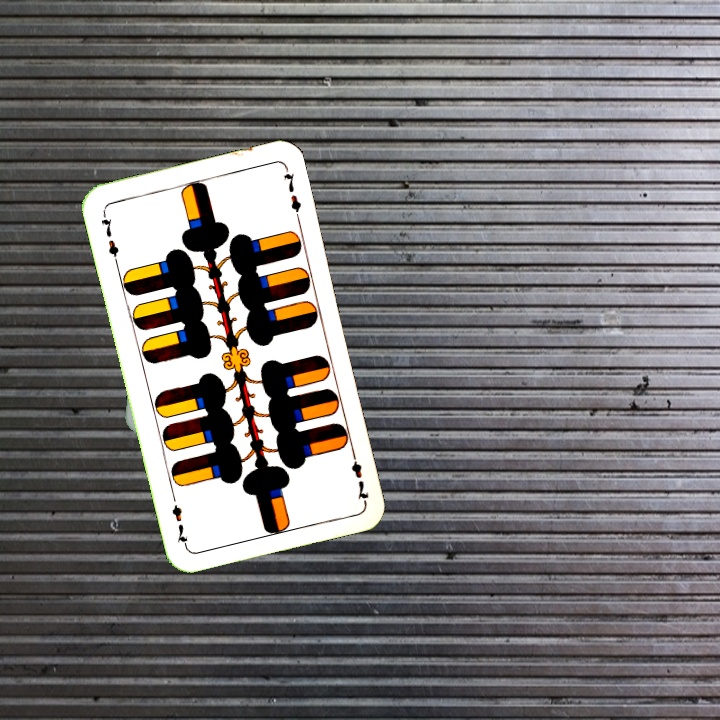E7: (96, 208, 121, 266), (347, 446, 372, 504)
